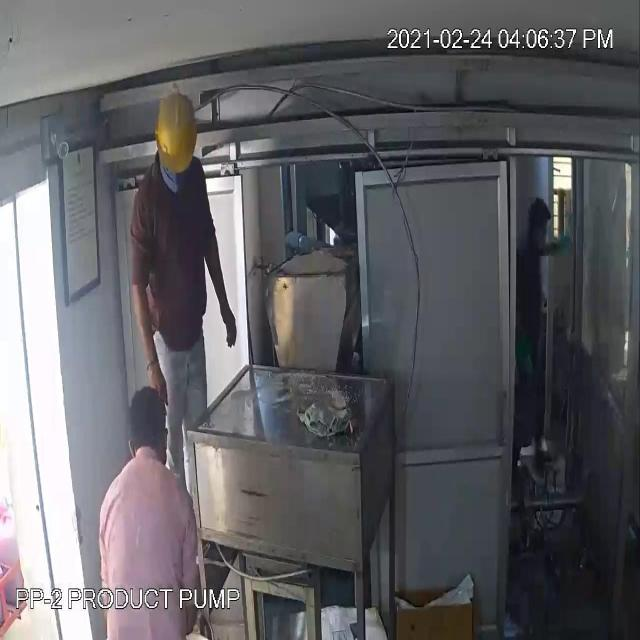helmet: (146, 86, 210, 185)
no-helmet: (124, 383, 174, 465)
